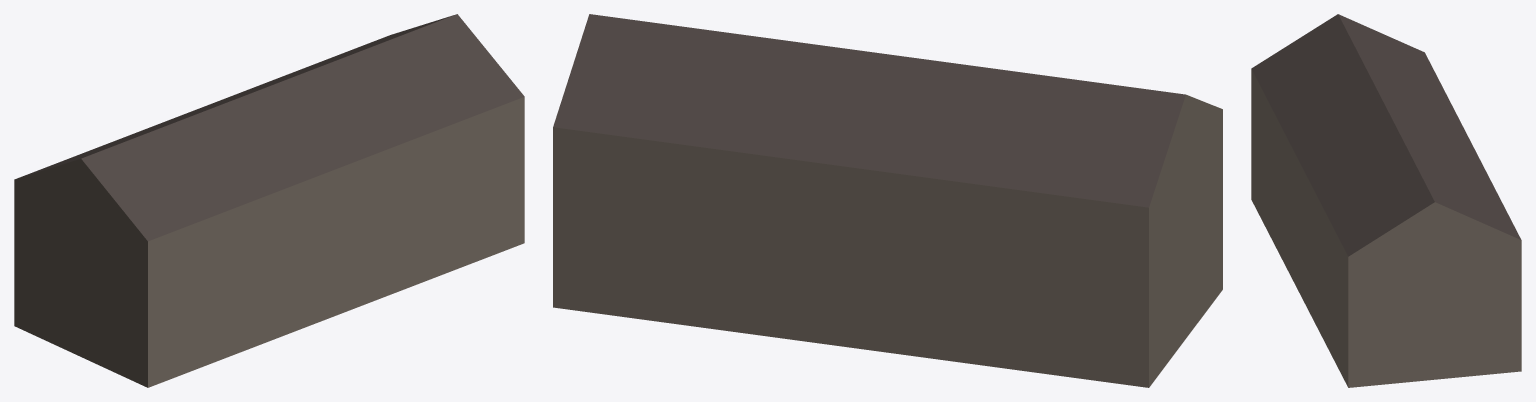
3 renders of one model, left to right at view 1: azimuth 30°, elevation 25°; view 2: azimuth 150°, elevation 25°; view 3: azimuth 270°, elevation 25°, orthographic. The views are drawn at different scales.
Parts seen in each view (by area): view 1: HP-w1202561784; view 2: HP-w1202561784; view 3: HP-w1202561784.
Boxes of the visible parts, x1,y1,x2,y2 form: HP-w1202561784: [14, 14, 524, 387]; HP-w1202561784: [553, 14, 1222, 387]; HP-w1202561784: [1251, 14, 1521, 387].
Size of the model in its own units: 30.08 by 12.19 by 16.81.
